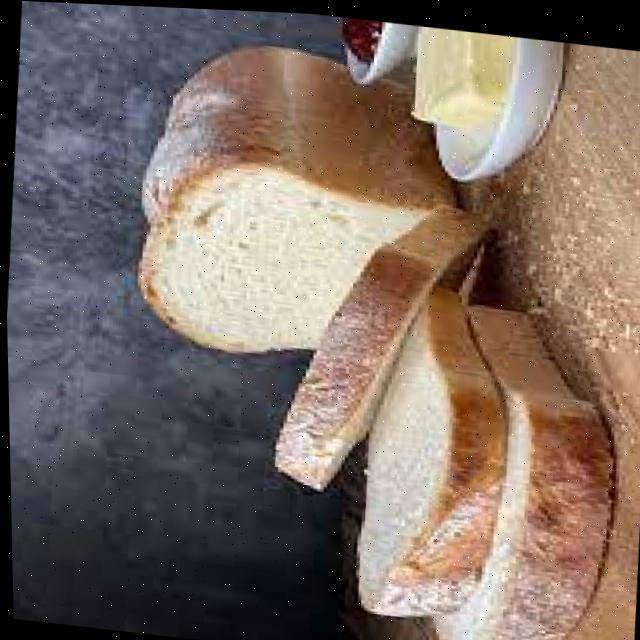Bread: (430, 301, 610, 640), (273, 203, 485, 483), (139, 162, 424, 345), (355, 283, 503, 609)
